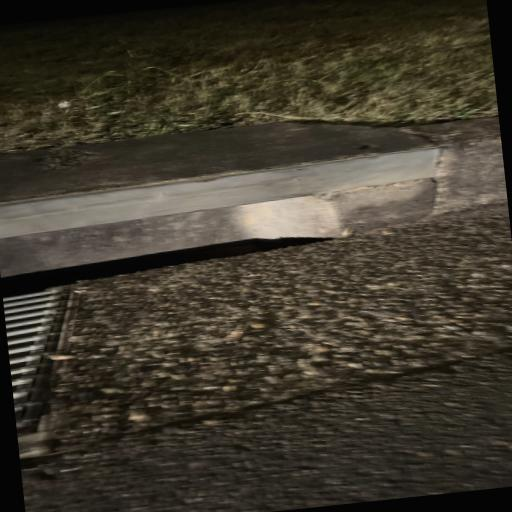kerb: (0, 117, 508, 457)
